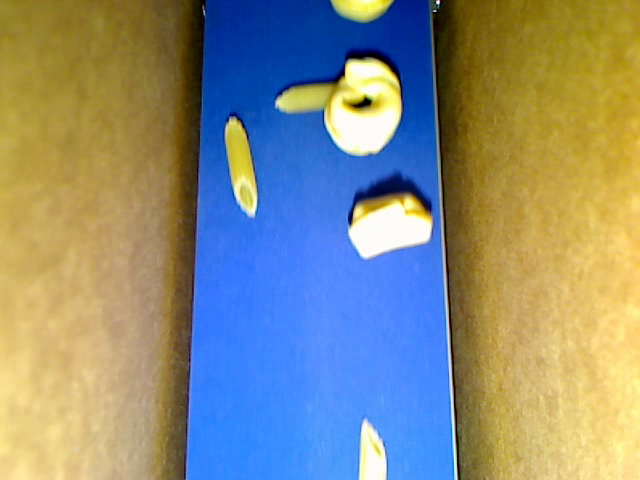penne: (224, 116, 258, 219), (273, 84, 355, 111), (358, 416, 388, 479)
tortellini: (322, 58, 402, 158), (347, 193, 433, 261)
